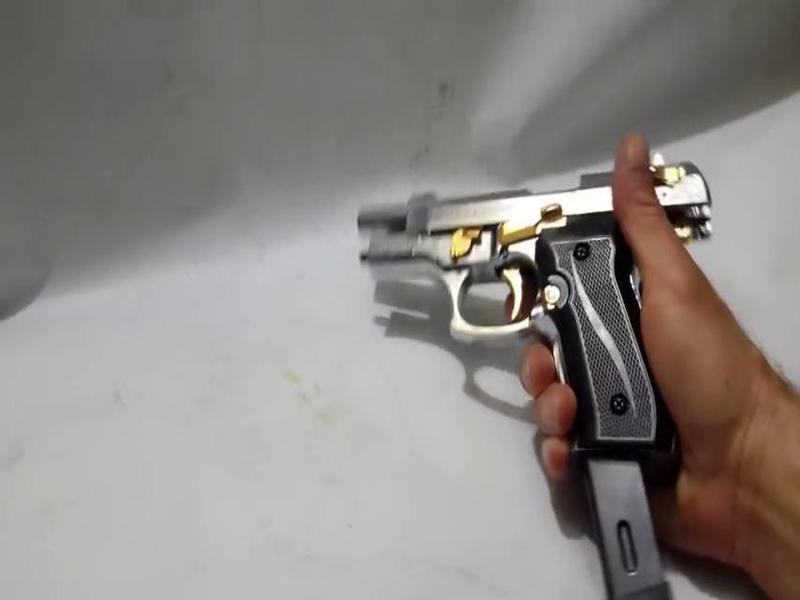Pistola: (353, 147, 736, 443)
